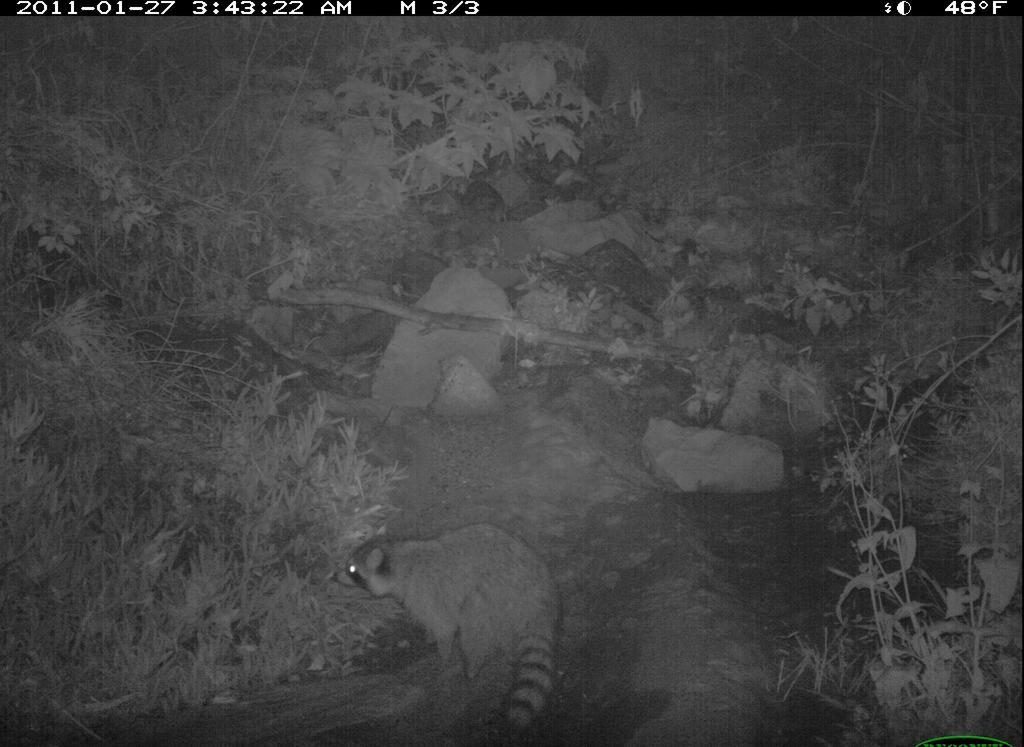raccoon: (326, 520, 571, 738)
